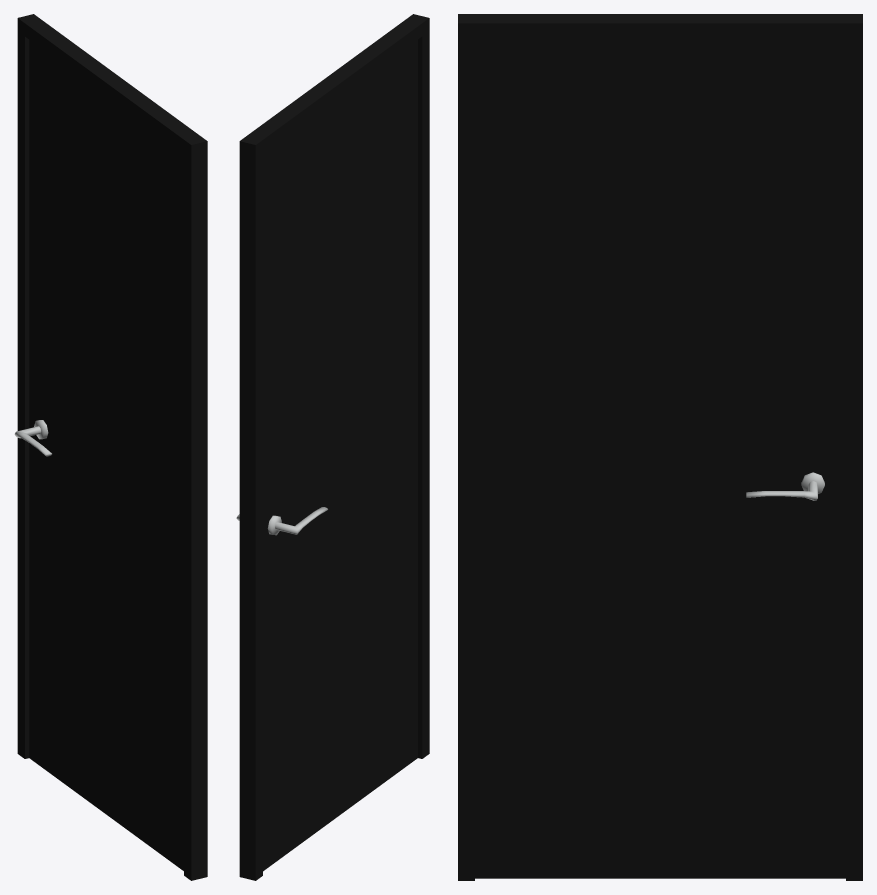
Rendered from Door.fbx.
The picture shows the model from 3 angles, left to right: view 1: azimuth 30°, elevation 25°; view 2: azimuth 150°, elevation 25°; view 3: azimuth 270°, elevation 25°; orthographic projection. The views are drawn at different scales.
Parts seen in each view (by area): view 1: Door.004, Door.001, Doorknob.004; view 2: Door.004, Door.001, Doorknob.004; view 3: Door.001, Door.004, Doorknob.
Boxes of the visible parts, x1,y1,x2,y2 form: Door.004: [17, 16, 199, 880]; Door.001: [26, 14, 207, 878]; Doorknob.004: [14, 420, 51, 456]; Door.004: [247, 16, 429, 880]; Door.001: [239, 14, 420, 878]; Doorknob.004: [267, 507, 327, 535]; Door.001: [458, 18, 862, 880]; Door.004: [458, 14, 862, 18]; Doorknob: [746, 472, 824, 500].
Bounding box in the file's own units: 17.76 × 205 × 87.5.
Materials: 1 (1 with a texture image).
